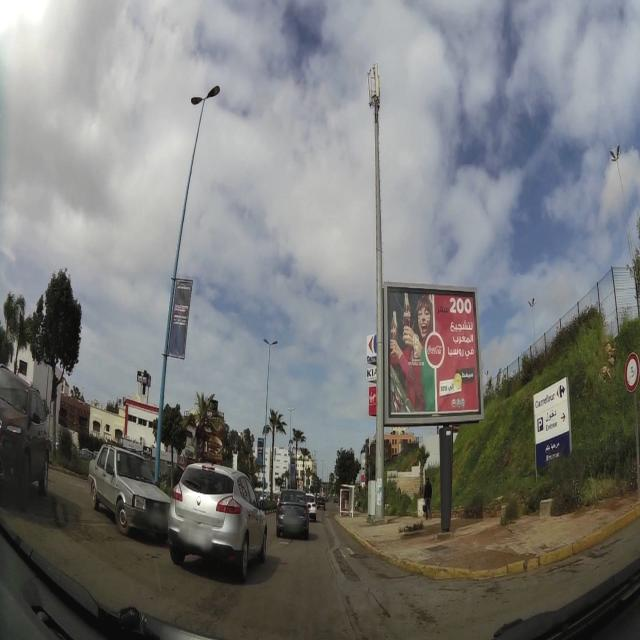car: (168, 461, 268, 582), (88, 443, 171, 541), (0, 368, 51, 504), (276, 488, 310, 540), (305, 492, 317, 521), (316, 494, 326, 510)
